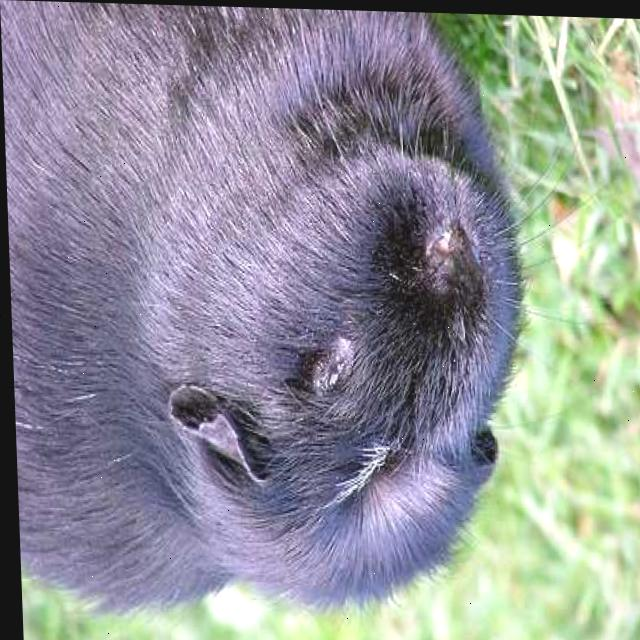guinea pig: (0, 0, 533, 622)
